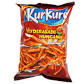kurkure: (25, 5, 68, 26)
plastic: (16, 1, 74, 84)
